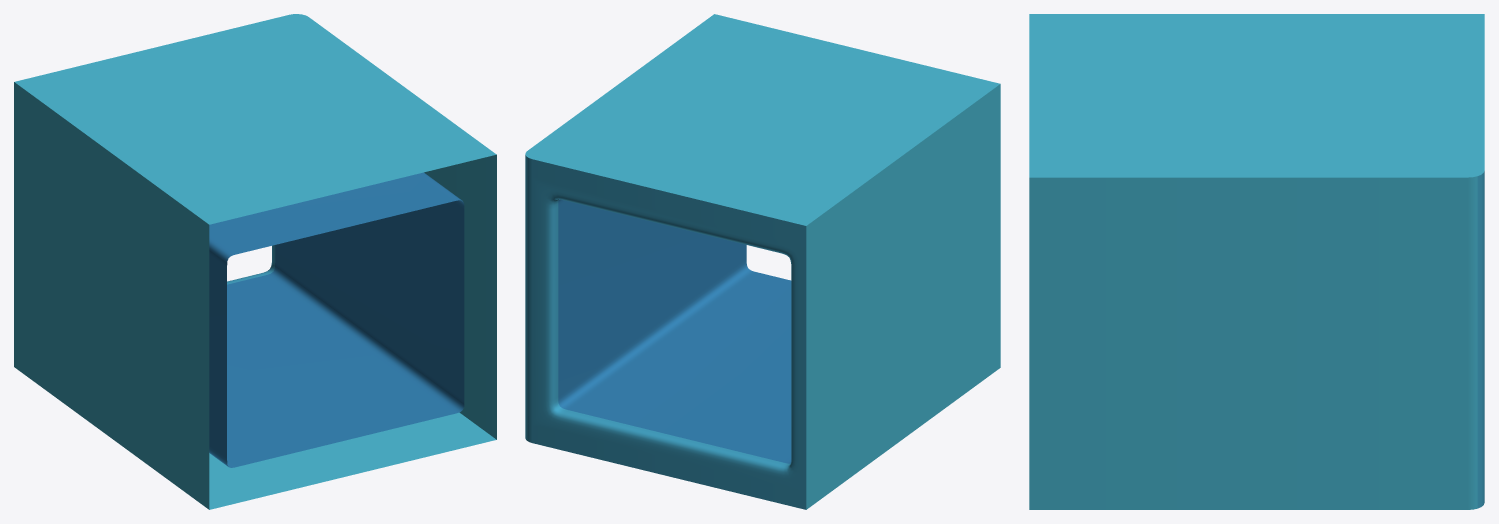
Rendered from Platform-3.fbx.
3 views of the same model, side by side, from view 1: azimuth 30°, elevation 25°; view 2: azimuth 150°, elevation 25°; view 3: azimuth 270°, elevation 25° (orthographic). The views are drawn at different scales.
Parts seen in each view (by area): view 1: Platform-3; view 2: Platform-3; view 3: Platform-3.
Boxes of the visible parts, box(x1,y1,x2,y2) form: Platform-3: box(14, 14, 496, 509); Platform-3: box(525, 14, 1000, 509); Platform-3: box(1029, 14, 1484, 509).
Size of the model in its own units: 422 by 400 by 496.
